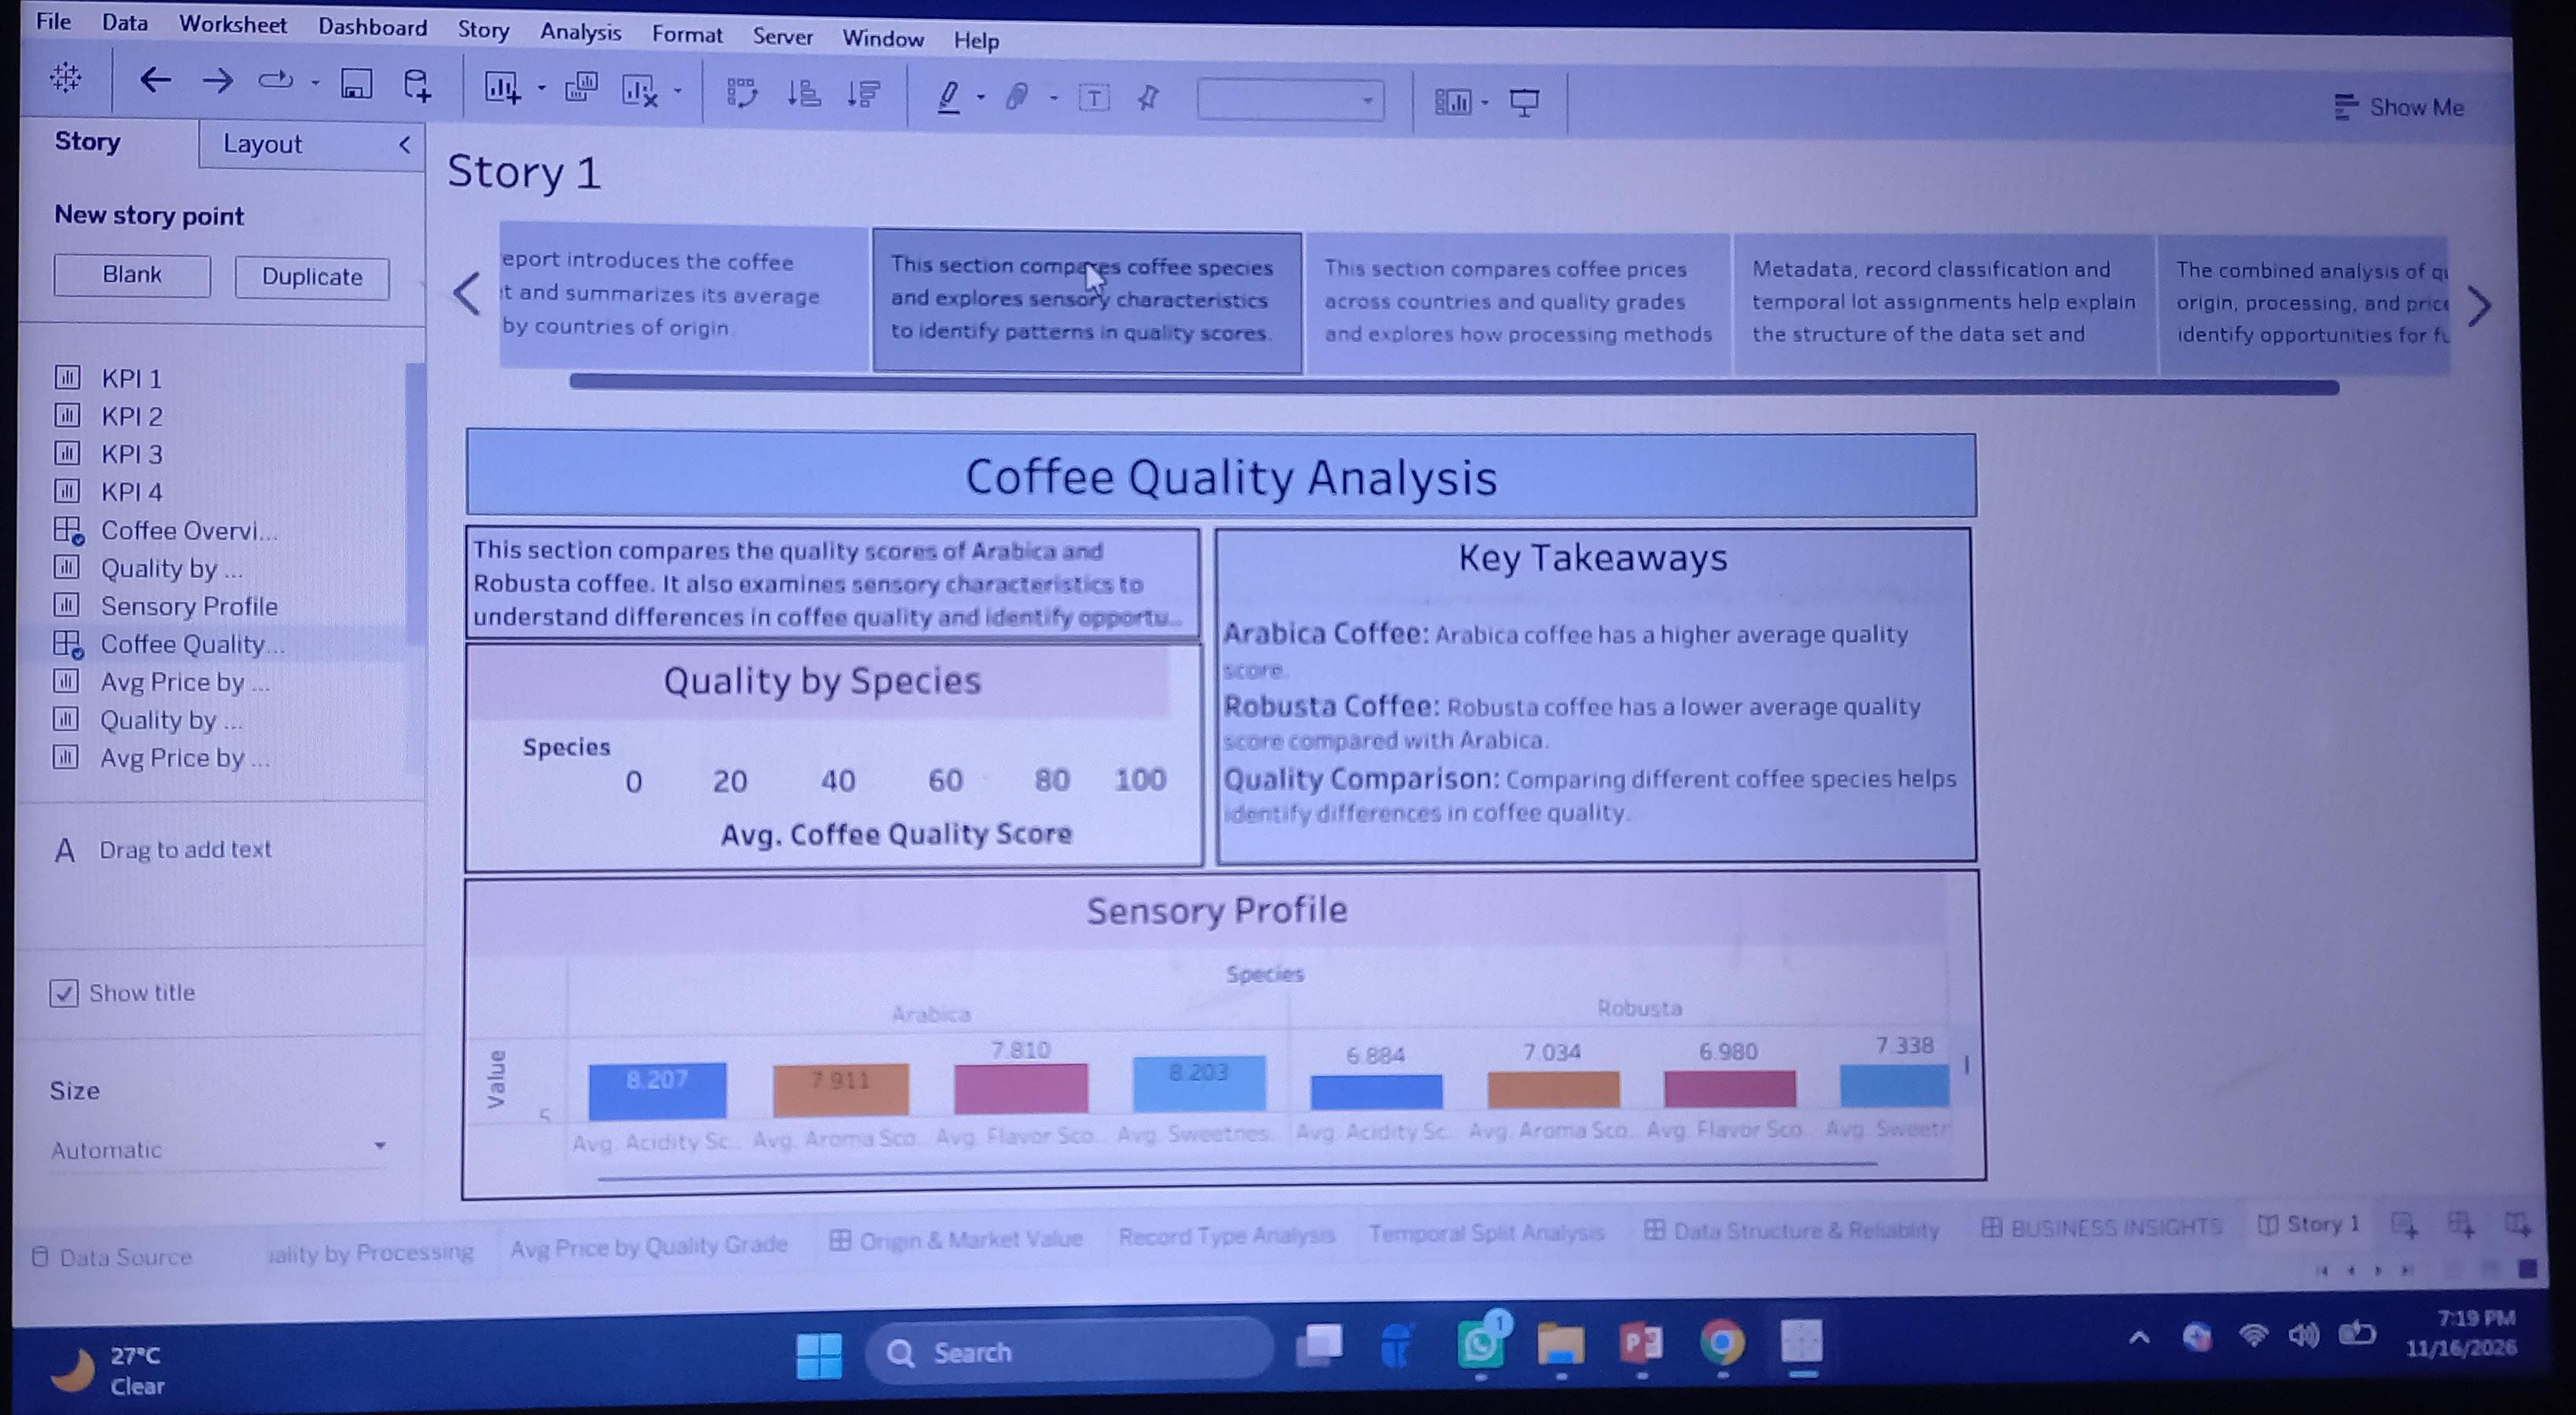

The page's visual inventory and layout, read from the dashboard file:
{"tool":"tableau","page":{"name":"Coffee Quality Analysis","canvas":[1000,1000],"units":"permille","ordinal":2},"visuals":[{"type":"title","box":[9.4,13.7,981.2,94]},{"type":"text","box":[12.9,150.4,465.9,145.3]},{"type":"text","box":[487.1,150.4,495.3,437.6]},{"type":"worksheet","title":"Quality by Species","mark":"Bar","rows":["species"],"cols":["coffee_quality_score"],"box":[12.9,299.2,467.1,290.6]},{"type":"worksheet","title":"Sensory Profile","mark":"Automatic","cols":["species"],"box":[12.9,594.9,970.6,401.7]}]}

Visuals, with their boxes on the dashboard's canvas, which has no fixed pixel size, in thousandths of its width and height (x1, y1, x2, y2). These are canvas units, not pixel positions in the 2576x1415 screenshot, which may show the page scaled, cropped or inside an application window:
title: [x1=9, y1=14, x2=991, y2=108]
text: [x1=13, y1=150, x2=479, y2=296]
text: [x1=487, y1=150, x2=982, y2=588]
"Quality by Species" worksheet (Bar marks): [x1=13, y1=299, x2=480, y2=590]
"Sensory Profile" worksheet: [x1=13, y1=595, x2=984, y2=997]
